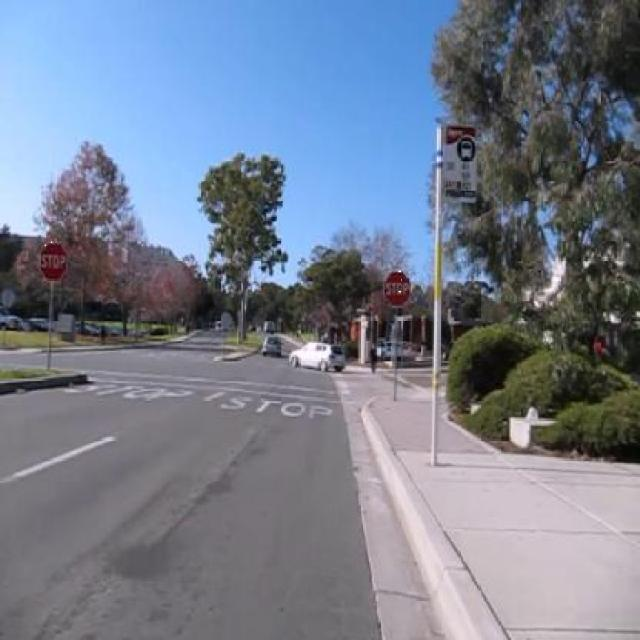stop: (37, 240, 69, 282), (382, 269, 411, 307)
